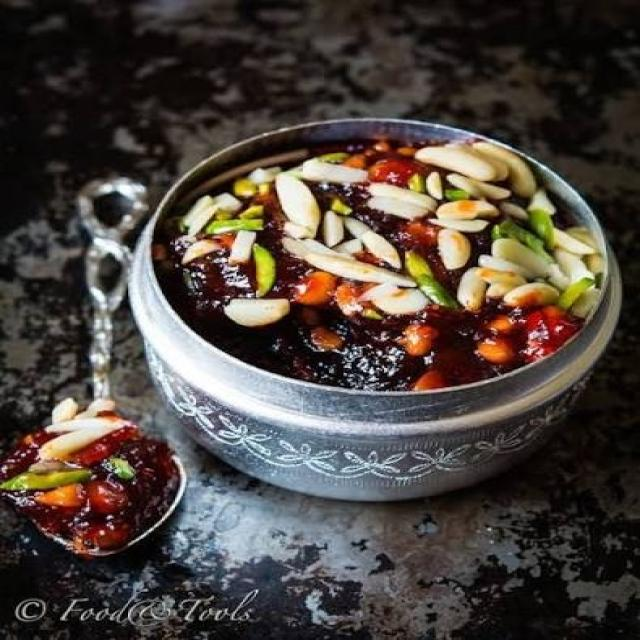Halwa: (154, 132, 608, 393), (2, 394, 181, 549)
